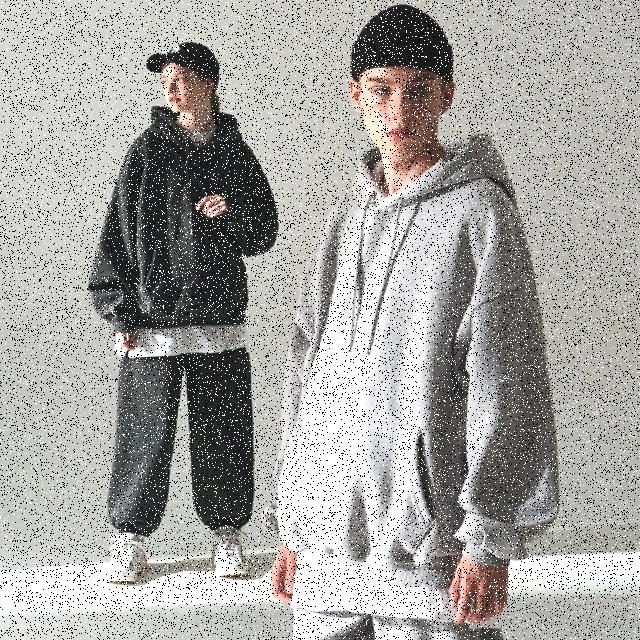Blouse_deep: (278, 120, 572, 600), (86, 94, 284, 356)
